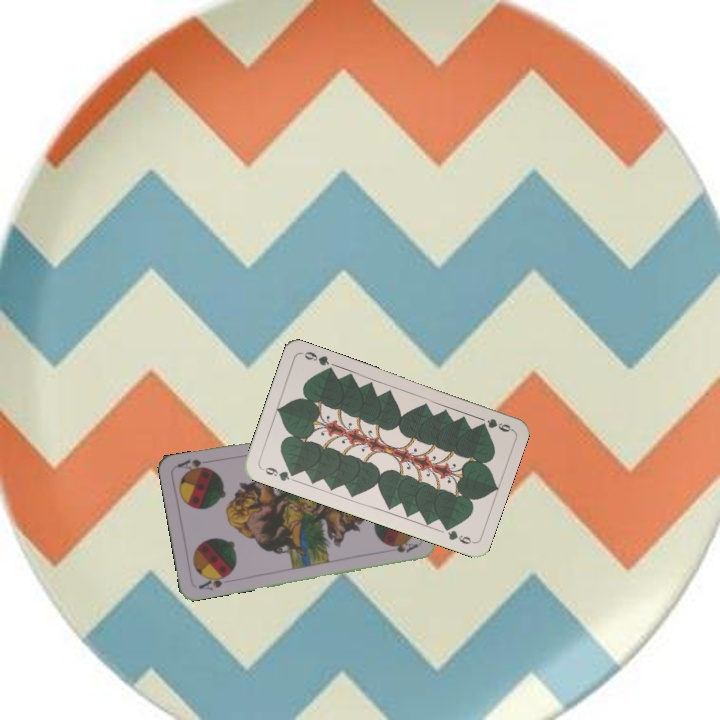G9: (257, 463, 299, 484), (477, 414, 514, 435)
SA: (195, 570, 232, 593)
